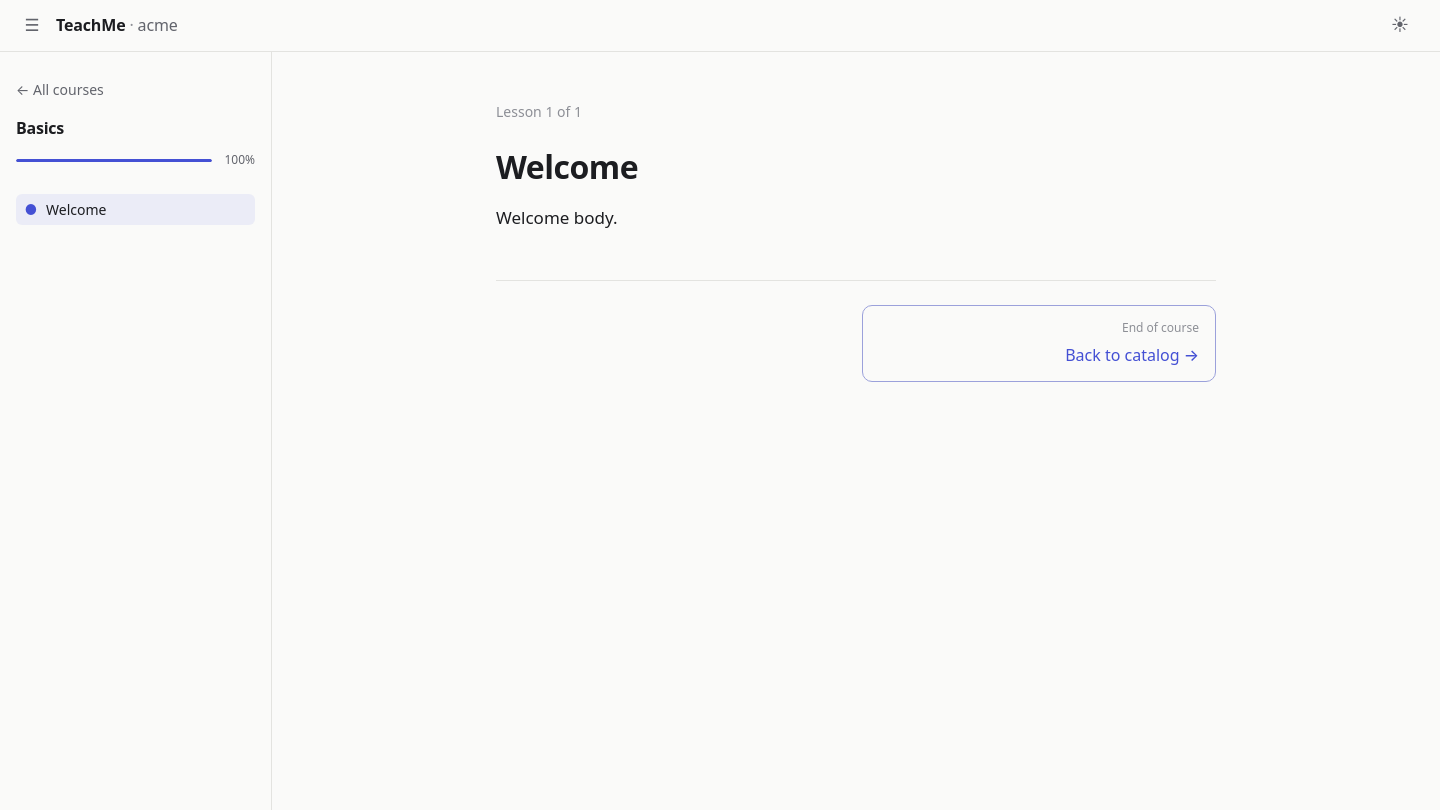
Test case: App › header drops the TOC toggle when leaving a course
The image size is (1440, 810).
Expected: the heading "Welcome" is shown, top-left (496, 145), bottom-right (638, 188)
Expected: the button named "table of contents" is shown, top-left (16, 10), bottom-right (48, 42)
Click the link "TeachMe · acme" at (117, 26), box top-left (56, 12), bottom-right (178, 39)
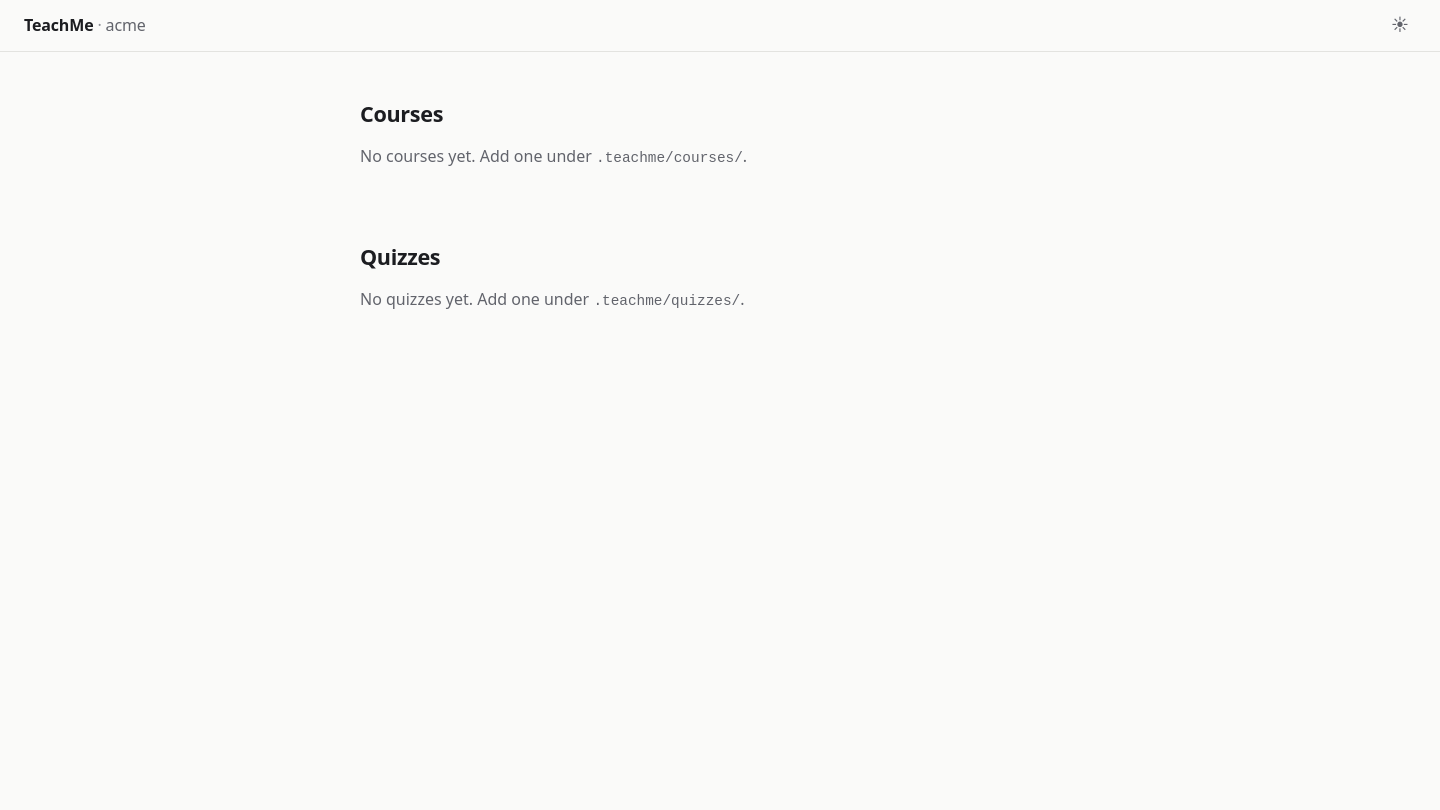
Now the heading "Courses" is shown, box top-left (360, 99), bottom-right (443, 128)
